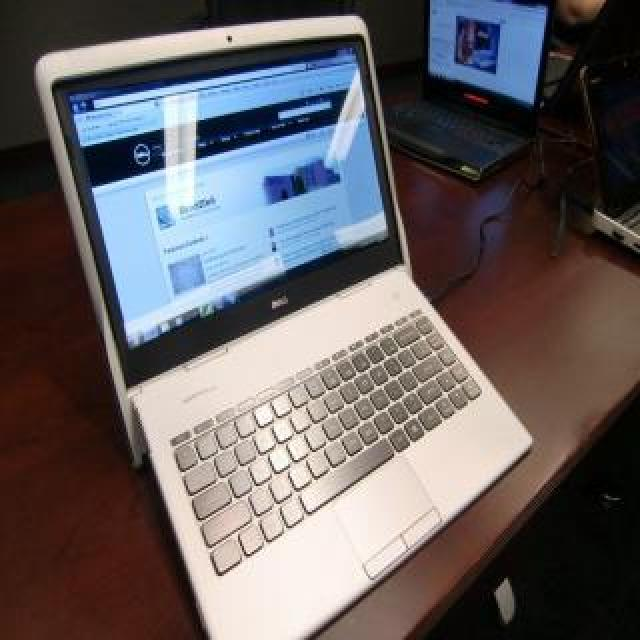laptop_computer: (21, 21, 532, 626), (415, 0, 568, 203), (575, 41, 640, 326)
